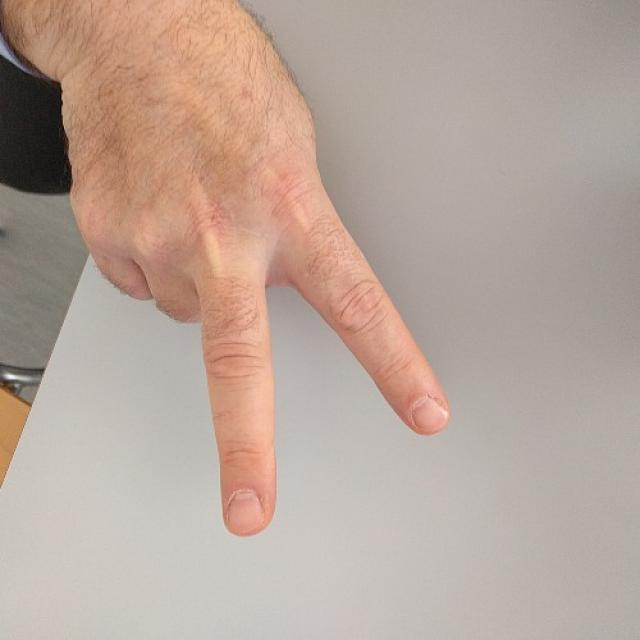scissors: (59, 101, 454, 537)
